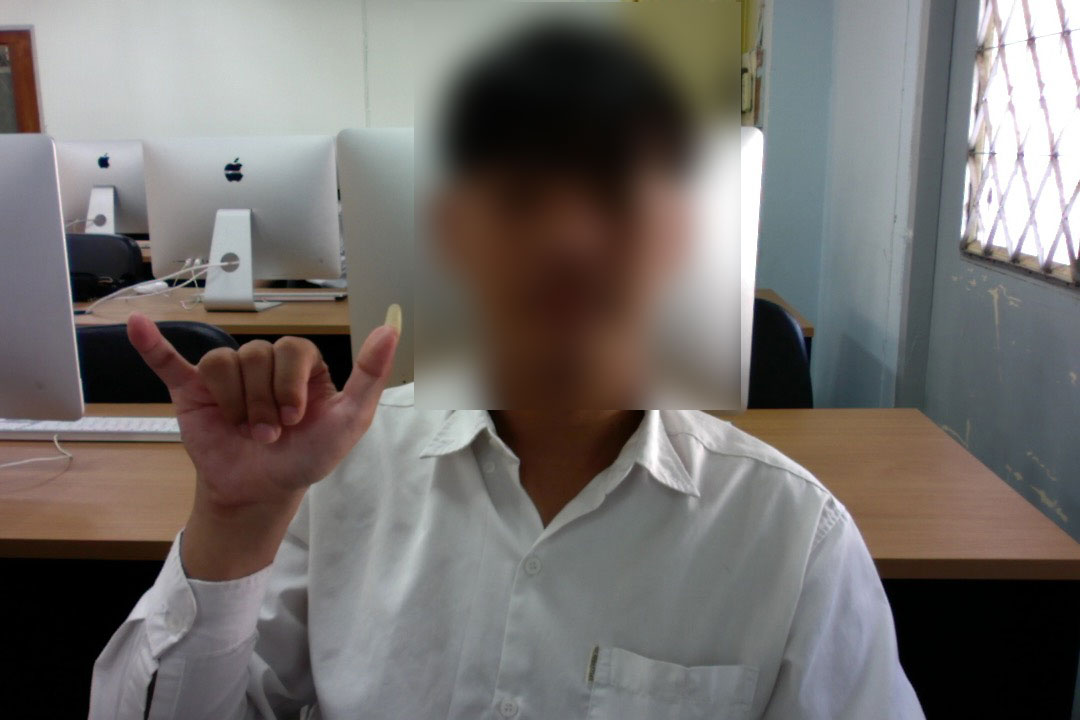yor: (121, 298, 409, 513)
